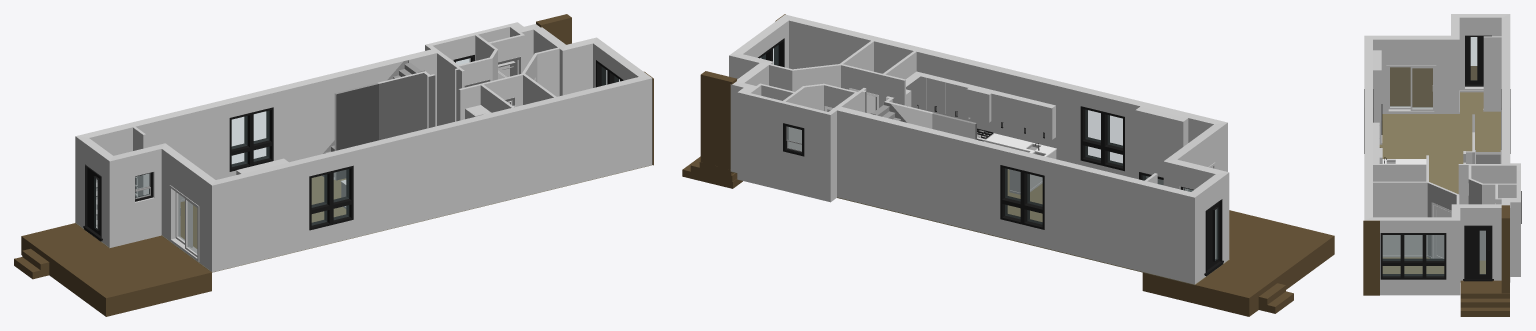
The model's file is eastridge-6.gltf.
The picture shows the model from 3 angles, left to right: view 1: azimuth 30°, elevation 25°; view 2: azimuth 150°, elevation 25°; view 3: azimuth 270°, elevation 25°; orthographic projection. The views are drawn at different scales.
Parts seen in each view (by area): view 1: mainFloor_wall_outsideShape, back_deck:PIV, pCube38:PIV, pCube40:PIV, main_floor|floor_main:PIV, pCube219:PIV, pCube221:PIV, pCube42:PIV, pCube223:PIV, pCube222:PIV, pCube60:PIV, pCube227:PIV (+9 smaller); view 2: mainFloor_wall_outsideShape, back_deck:PIV, pCube107:PIV, pCube256:PIV, pCube221:PIV, pCube219:PIV, pCube223:PIV, pCube222:PIV, pCube64:PIV, main_floor|floor_main:PIV, pCube227:PIV, pCube203:PIV (+10 smaller); view 3: mainFloor_wall_outsideShape, main_floor|floor_main:PIV, pCube53:PIV, back_deck:PIV, main_windowShape, backdoor_wall:PIV, pCube487:PIV, pCube106:PIV, pCube54:PIV, pCube64:PIV, pCube242:PIV, pCube243:PIV (+25 smaller).
Boxes of the visible parts, bbox=[...] form: mainFloor_wall_outsideShape: bbox=[75, 22, 652, 272]; back_deck:PIV: bbox=[21, 223, 211, 316]; pCube38:PIV: bbox=[334, 83, 378, 180]; pCube40:PIV: bbox=[378, 71, 426, 140]; main_floor|floor_main:PIV: bbox=[75, 165, 651, 272]; pCube219:PIV: bbox=[309, 165, 353, 230]; pCube221:PIV: bbox=[229, 107, 273, 171]; pCube42:PIV: bbox=[437, 53, 464, 125]; pCube223:PIV: bbox=[232, 111, 269, 166]; pCube222:PIV: bbox=[312, 169, 348, 225]; pCube60:PIV: bbox=[535, 47, 559, 96]; pCube227:PIV: bbox=[85, 166, 100, 237]; mainFloor_wall_outsideShape: bbox=[729, 14, 1229, 284]; back_deck:PIV: bbox=[1142, 210, 1334, 316]; pCube107:PIV: bbox=[700, 71, 736, 172]; pCube256:PIV: bbox=[1135, 106, 1188, 179]; pCube221:PIV: bbox=[1000, 165, 1044, 229]; pCube219:PIV: bbox=[1080, 106, 1124, 171]; pCube223:PIV: bbox=[1005, 168, 1042, 224]; pCube222:PIV: bbox=[1085, 110, 1122, 165]; pCube64:PIV: bbox=[783, 83, 828, 150]; main_floor|floor_main:PIV: bbox=[731, 169, 1229, 285]; pCube227:PIV: bbox=[1206, 200, 1221, 272]; pCube203:PIV: bbox=[966, 85, 993, 122]; mainFloor_wall_outsideShape: bbox=[1364, 14, 1520, 295]; main_floor|floor_main:PIV: bbox=[1379, 92, 1500, 273]; pCube53:PIV: bbox=[1373, 181, 1428, 255]; back_deck:PIV: bbox=[1390, 66, 1477, 107]; main_windowShape: bbox=[1380, 233, 1446, 279]; backdoor_wall:PIV: bbox=[1483, 36, 1501, 109]; pCube487:PIV: bbox=[1363, 220, 1379, 295]; pCube106:PIV: bbox=[1465, 226, 1491, 278]; pCube54:PIV: bbox=[1373, 164, 1428, 181]; pCube64:PIV: bbox=[1468, 177, 1516, 204]; pCube242:PIV: bbox=[1412, 68, 1432, 108]; pCube243:PIV: bbox=[1390, 67, 1410, 106].
Size of the model in its own units: 15.36 by 2.73 by 4.21.
